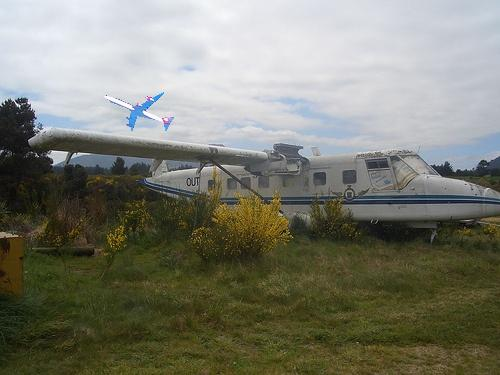tampered: (105, 93, 174, 131)
